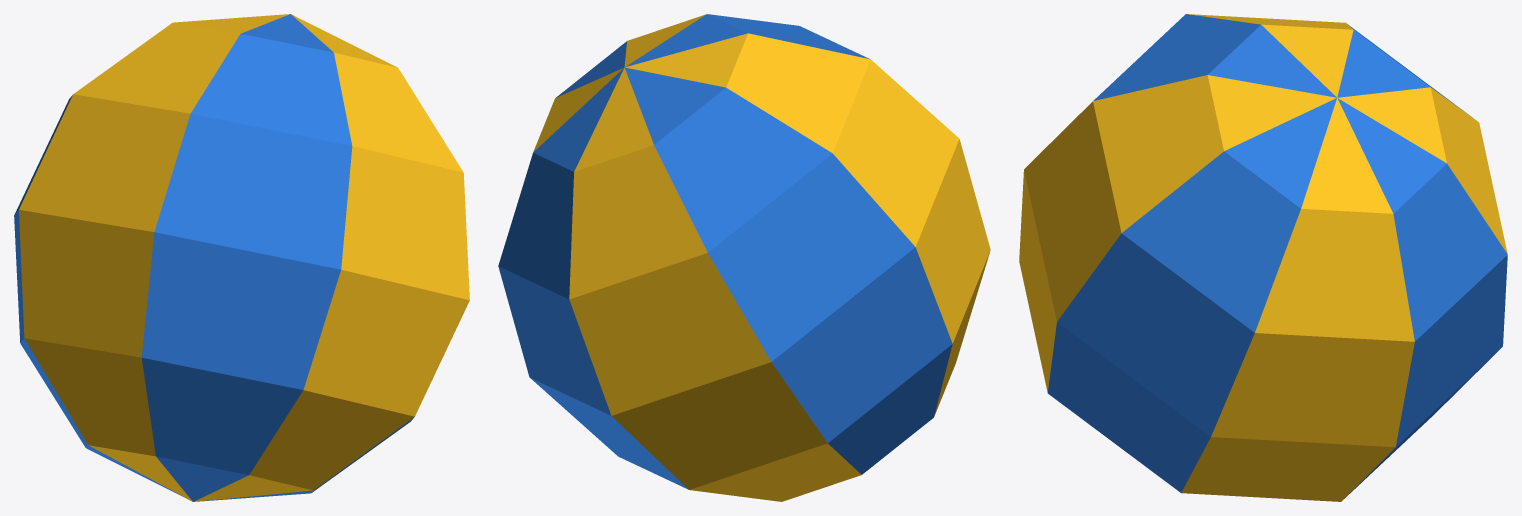
Rendered from Ball_tex.fbx.
3 views of the same model, side by side, from view 1: azimuth 30°, elevation 25°; view 2: azimuth 150°, elevation 25°; view 3: azimuth 270°, elevation 25° (orthographic). The views are drawn at different scales.
Parts seen in each view (by area): view 1: Ball_tex; view 2: Ball_tex; view 3: Ball_tex.
Part boxes in pixels (bbox=[...]): Ball_tex: bbox=[14, 14, 469, 501]; Ball_tex: bbox=[498, 14, 990, 501]; Ball_tex: bbox=[1019, 14, 1507, 501].
Bounding box in the file's own units: 0.586 × 0.592 × 0.5649.
